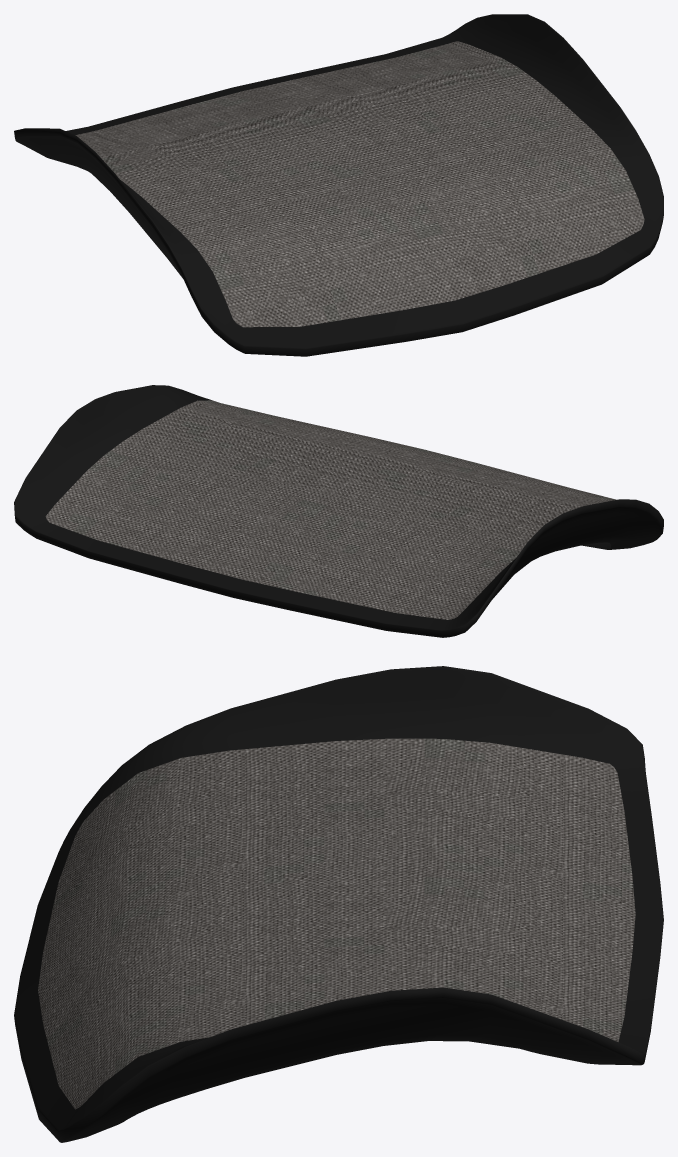
3 views of the same model, one above another, from view 1: azimuth 30°, elevation 25°; view 2: azimuth 150°, elevation 25°; view 3: azimuth 270°, elevation 25° (orthographic). The views are drawn at different scales.
Parts seen in each view (by area): view 1: part10:seat 1; view 2: part10:seat 1; view 3: part10:seat 1.
Part boxes in pixels (x1,y1,x2,y2): part10:seat 1: (14, 14, 663, 356); part10:seat 1: (14, 385, 663, 637); part10:seat 1: (14, 666, 663, 1142).
Bounding box in the file's own units: 0.55 × 0.1605 × 0.47.
Materials: 2 (1 with a texture image).
